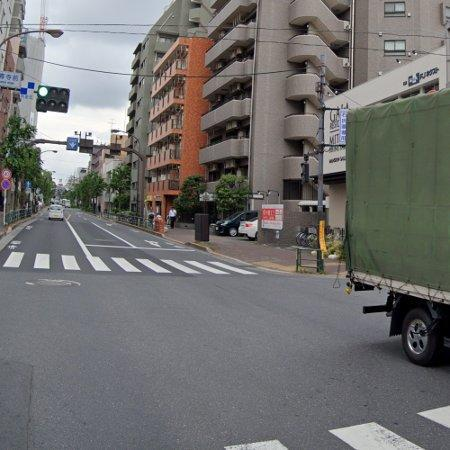crosswalks: (4, 248, 265, 276)
